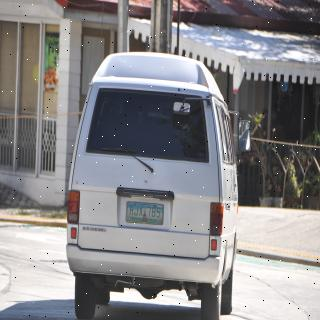license: (127, 202, 165, 226)
